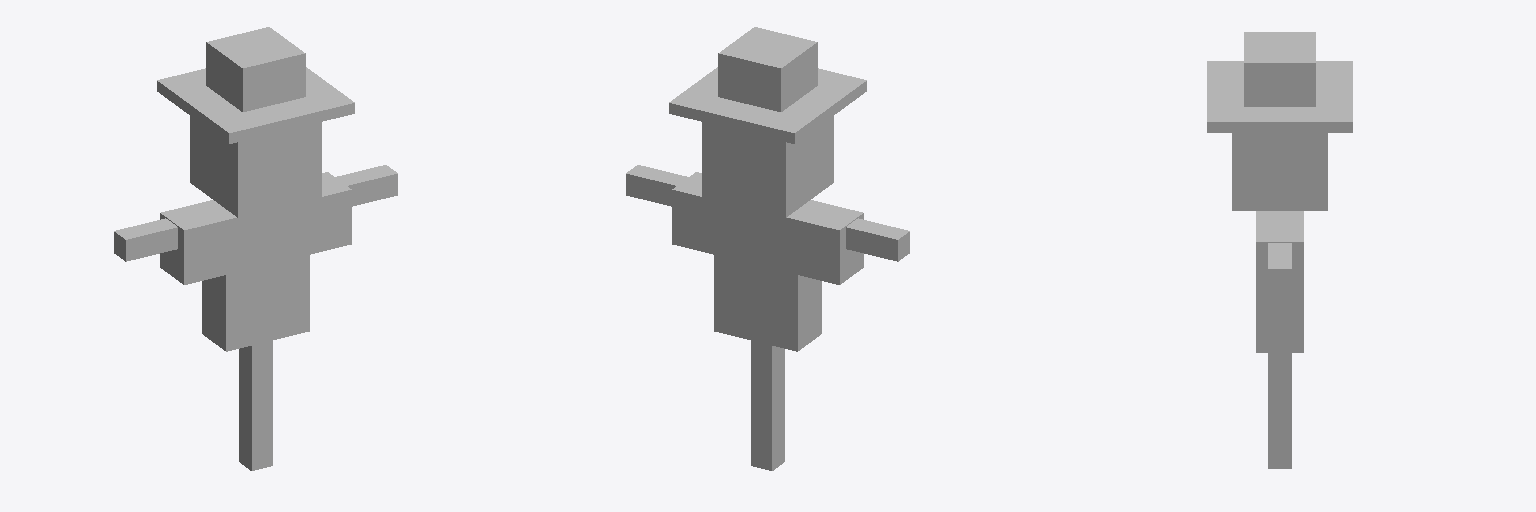
The model's file is 586_scarecrow.obj.
3 renders of one model, left to right at view 1: azimuth 30°, elevation 25°; view 2: azimuth 150°, elevation 25°; view 3: azimuth 270°, elevation 25°, orthographic.
Parts seen in each view (by area): view 1: body, head, Hat1, hat2, leg, leftarm2, rightarm2, rightarm, leftarm; view 2: body, head, Hat1, hat2, leg, leftarm2, rightarm2, rightarm, leftarm; view 3: head, Hat1, hat2, body, leg, rightarm2, leftarm.
Boxes of the visible parts, box(x1,y1,x2,y2) form: body: box(202, 200, 309, 351); head: box(190, 116, 321, 217); Hat1: box(157, 67, 354, 143); hat2: box(206, 27, 305, 111); leg: box(239, 341, 272, 470); leftarm2: box(160, 203, 225, 284); rightarm2: box(310, 172, 351, 254); rightarm: box(114, 218, 177, 261); leftarm: box(335, 165, 397, 206); body: box(714, 200, 821, 351); head: box(702, 116, 833, 217); Hat1: box(669, 67, 866, 143); hat2: box(718, 27, 817, 111); leg: box(751, 341, 784, 470); leftarm2: box(798, 203, 863, 284); rightarm2: box(672, 172, 713, 254); rightarm: box(846, 218, 909, 261); leftarm: box(626, 165, 688, 206); head: box(1232, 133, 1327, 210); Hat1: box(1207, 61, 1352, 132); hat2: box(1244, 32, 1315, 106); body: box(1256, 211, 1303, 352); leg: box(1268, 353, 1291, 468); rightarm2: box(1256, 222, 1303, 296); leftarm: box(1268, 243, 1291, 290).
Size of the model in its own units: 1.62 by 2.38 by 0.75.